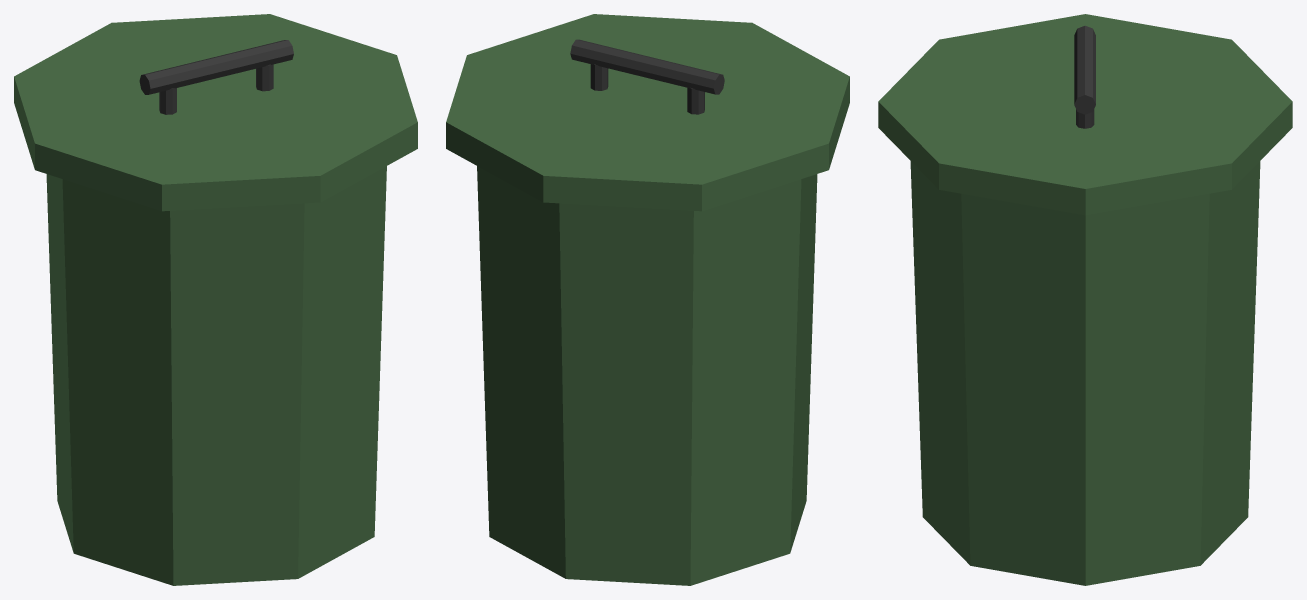
File: Trashcan_1.fbx
3 views of the same model, side by side, from view 1: azimuth 30°, elevation 25°; view 2: azimuth 150°, elevation 25°; view 3: azimuth 270°, elevation 25° (orthographic).
Parts seen in each view (by area): view 1: pCylinder6, pCylinder4; view 2: pCylinder6, pCylinder4; view 3: pCylinder6, pCylinder4.
Part boxes in pixels (x1=…): pCylinder6: x1=14, y1=14, x2=417, y2=585; pCylinder4: x1=139, y1=40, x2=293, y2=114; pCylinder6: x1=446, y1=14, x2=849, y2=585; pCylinder4: x1=570, y1=39, x2=724, y2=114; pCylinder6: x1=878, y1=14, x2=1292, y2=585; pCylinder4: x1=1074, y1=25, x2=1095, y2=128.
Size of the model in its own units: 0.00582 by 0.00708 by 0.00582.
